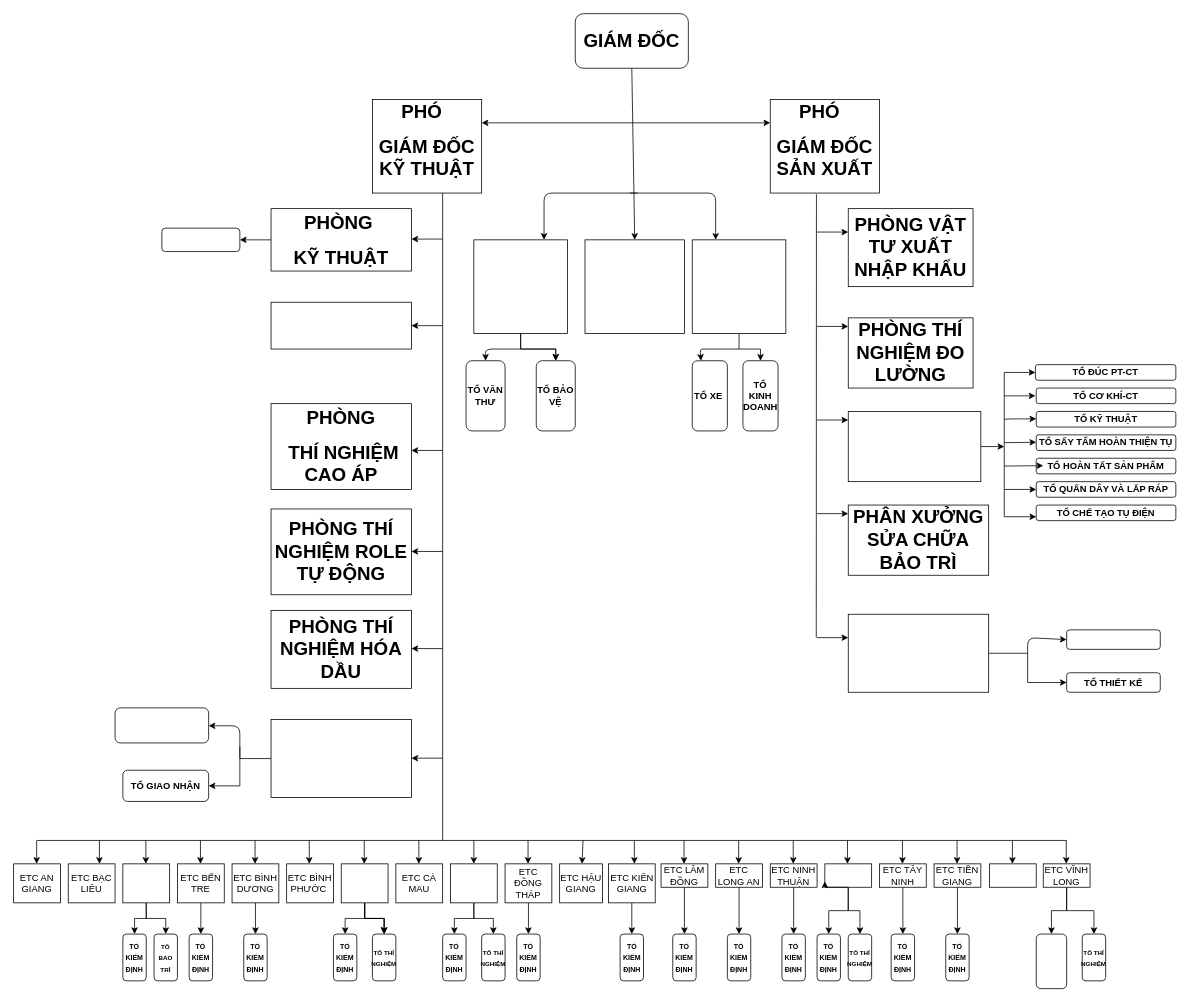
Image size: 1190x1003. Some labels were removed from this diagram. The centre of each missing label's shape, as x and y in pixels:
"ETC BÀ RỊA VŨNG TÀU" belongs at point 146,883.
"ETC BÌNH THUẬN" belongs at point 364,883.
"ETC CẦN THƠ" belongs at point 473,883.
"ETC SÓC TRĂNG" belongs at point 848,875.
"ETC TRÀ VINH" belongs at point 1012,875.
"PHÂN XƯỞNG CHẾ TẠO LẮP ĐẶT" belongs at point 914,446.
"PHÂN XƯỞNG SẢN XUẤT TỦ BẢNG ĐIỆN" belongs at point 918,652.
"PHÂN XƯỞNG ĐIỆN NĂNG KẾ" belongs at point 340,758.
"PHÒNG AN TOÀN" belongs at point 340,325.
"PHÒNG KẾ HOẠCH" belongs at point 738,286.
"PHÒNG TÀI CHÍNH KẾ TOÁN" belongs at point 634,286.
"PHÒNG TỔ CHỨC NHÂN SỰ" belongs at point 520,286.
"TỔ CHUẨN ĐỊNH" belongs at point 161,725.
"TỔ CHẨN ĐOÁN" belongs at point 200,239.
"TỔ KIỂM ĐỊNH & BẢO TRÌ" belongs at point 1051,961.
"TỔ LẮP RÁP" belongs at point 1113,639.
